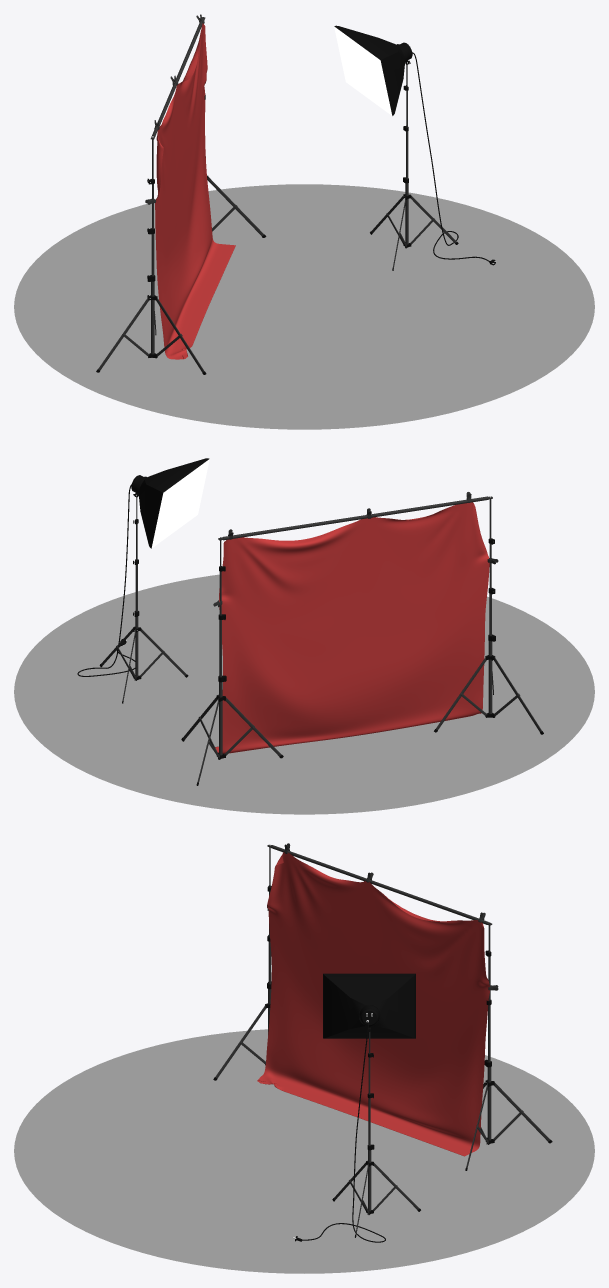
File: green_screen_studio_with_a_softbox.glb
The picture shows the model from 3 angles, top to bottom: view 1: azimuth 30°, elevation 25°; view 2: azimuth 150°, elevation 25°; view 3: azimuth 270°, elevation 25°; orthographic projection.
Parts seen in each view (by area): view 1: floor001, Plane001, box_shader, legs001, legs, main_pole001; view 2: floor001, Plane001, box_shader, green_pole, legs002, legs001, main_pole001, legs, main_pole002, cable, main_pole; view 3: floor001, Plane001, box_shader, green_pole, legs002, main_pole002, legs, cable.
Part boxes in pixels (x1,y1,x2,y2): floor001: (14, 184, 594, 429); Plane001: (155, 23, 235, 359); box_shader: (334, 25, 405, 115); legs001: (96, 296, 206, 374); legs: (370, 194, 458, 270); main_pole001: (151, 136, 154, 354); floor001: (14, 574, 594, 814); Plane001: (215, 502, 489, 753); box_shader: (138, 458, 209, 548); green_pole: (218, 496, 492, 540); legs002: (181, 695, 283, 785); legs001: (434, 656, 543, 734); main_pole001: (488, 496, 492, 713); legs: (99, 626, 188, 703); main_pole002: (219, 537, 222, 755); cable: (77, 484, 135, 676); main_pole: (135, 495, 138, 676); floor001: (14, 1029, 594, 1273); Plane001: (257, 852, 489, 1156); box_shader: (323, 973, 415, 1038); green_pole: (267, 845, 492, 925); legs002: (465, 1080, 552, 1170); main_pole002: (487, 922, 491, 1140); legs: (332, 1161, 420, 1237); cable: (302, 1021, 385, 1242).
Size of the model in its own units: 422 by 186 by 422.
